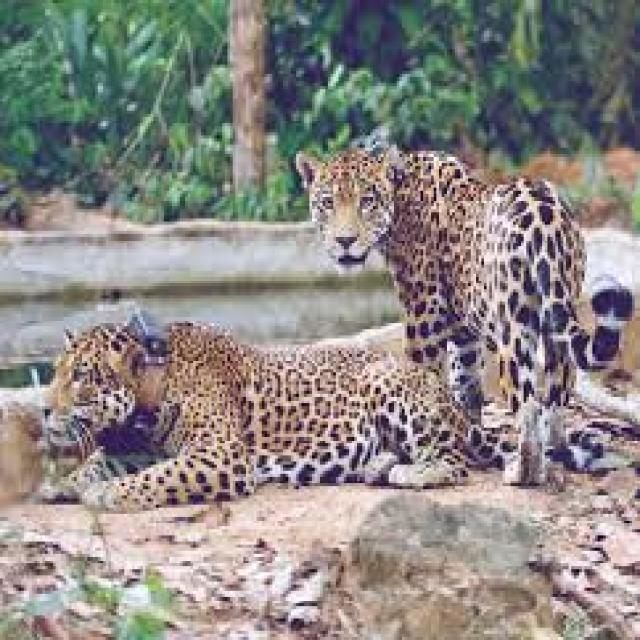Jaguar: (293, 144, 640, 489), (42, 317, 479, 517)
